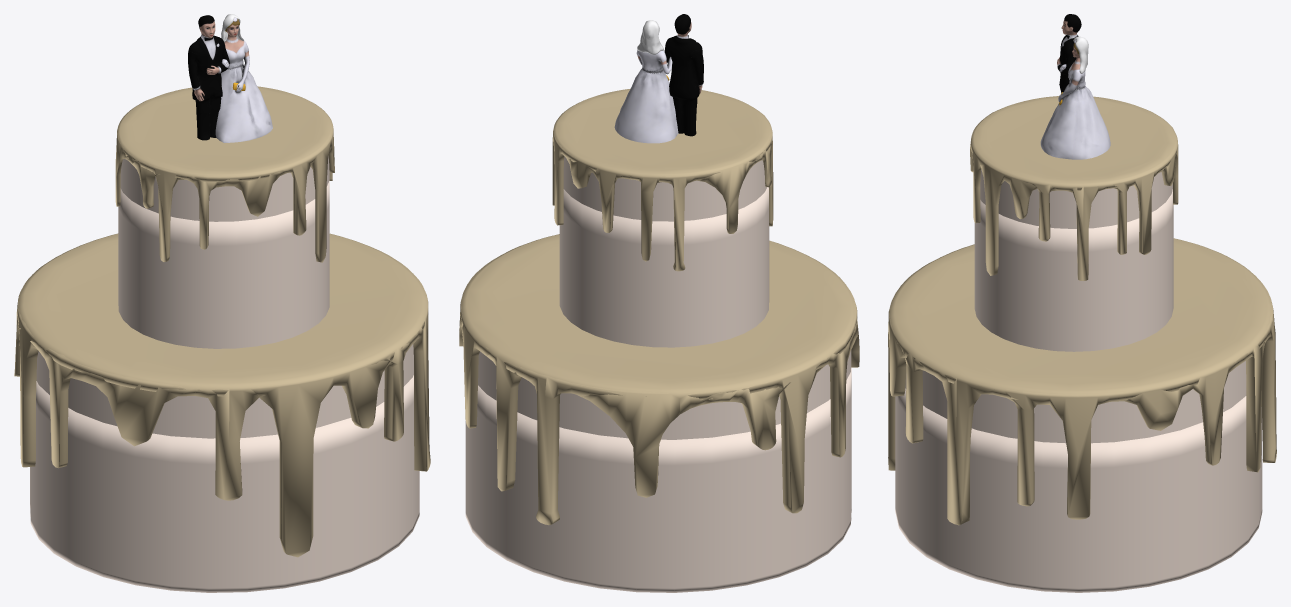
The model's file is 2-tier-white-ganache-bridegroom.glb.
The picture shows the model from 3 angles, left to right: view 1: azimuth 30°, elevation 25°; view 2: azimuth 150°, elevation 25°; view 3: azimuth 270°, elevation 25°; orthographic projection. The views are drawn at different scales.
Visible parts, largest first — view 1: Cylinder.023, tHE ICING.004, Cylinder.013, tHE ICING.003, 13501_Cake_Topper_Bride_Groom_v1_L1.003; view 2: Cylinder.023, tHE ICING.004, Cylinder.013, tHE ICING.003, 13501_Cake_Topper_Bride_Groom_v1_L1.003; view 3: Cylinder.023, tHE ICING.004, Cylinder.013, tHE ICING.003, 13501_Cake_Topper_Bride_Groom_v1_L1.003.
Part boxes in pixels (left/top/right/bottom): Cylinder.023: left=30, top=344, right=419, bottom=592; tHE ICING.004: left=14, top=233, right=430, bottom=557; Cylinder.013: left=118, top=156, right=329, bottom=348; tHE ICING.003: left=115, top=86, right=334, bottom=262; 13501_Cake_Topper_Bride_Groom_v1_L1.003: left=188, top=14, right=272, bottom=142; Cylinder.023: left=465, top=350, right=851, bottom=592; tHE ICING.004: left=459, top=234, right=859, bottom=525; Cylinder.013: left=559, top=156, right=769, bottom=347; tHE ICING.003: left=552, top=88, right=773, bottom=271; 13501_Cake_Topper_Bride_Groom_v1_L1.003: left=614, top=14, right=703, bottom=143; Cylinder.023: left=895, top=361, right=1262, bottom=592; tHE ICING.004: left=888, top=238, right=1276, bottom=525; Cylinder.013: left=974, top=169, right=1173, bottom=351; tHE ICING.003: left=970, top=96, right=1178, bottom=280; 13501_Cake_Topper_Bride_Groom_v1_L1.003: left=1040, top=14, right=1110, bottom=159.
Bounding box in the file's own units: 3.53 × 4.79 × 3.46.
Materials: 3 (1 with a texture image).
